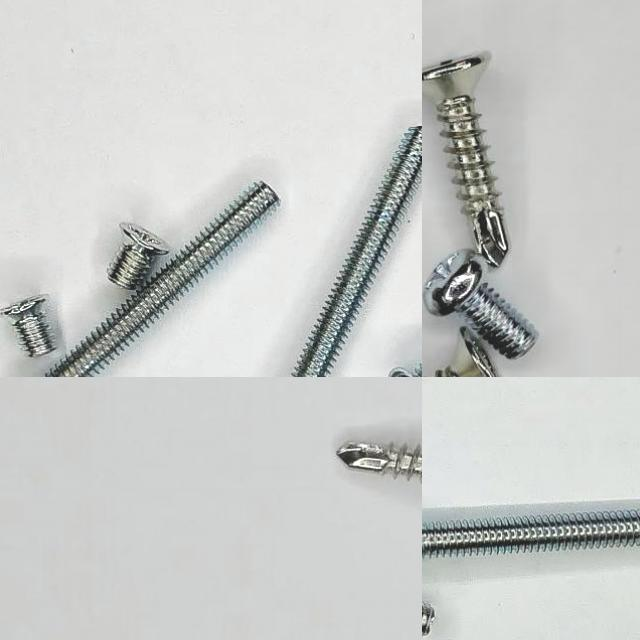Screw: (43, 181, 279, 377), (292, 127, 422, 377), (422, 51, 509, 266), (424, 251, 539, 359), (422, 510, 640, 558), (108, 222, 169, 290), (337, 440, 422, 482), (0, 295, 56, 357), (433, 328, 502, 377)
